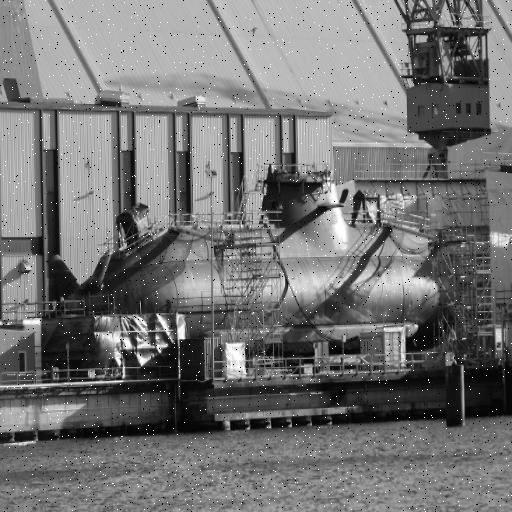submarine: (69, 175, 451, 324)
